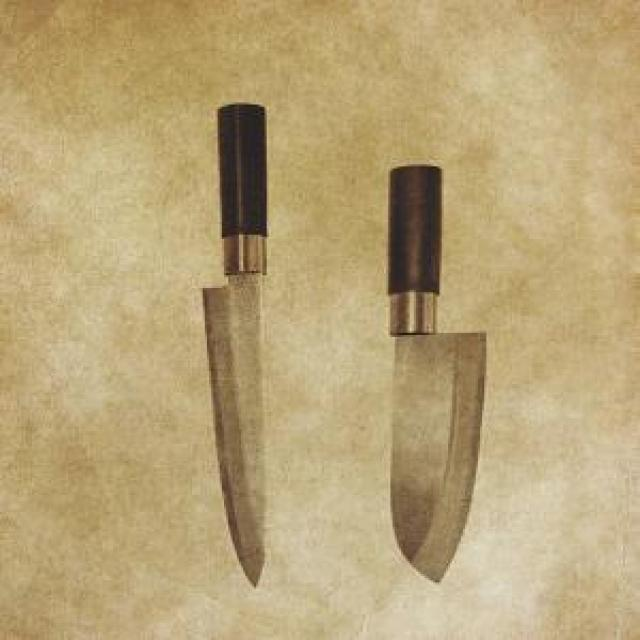knife: (358, 164, 489, 584), (203, 105, 276, 592)
